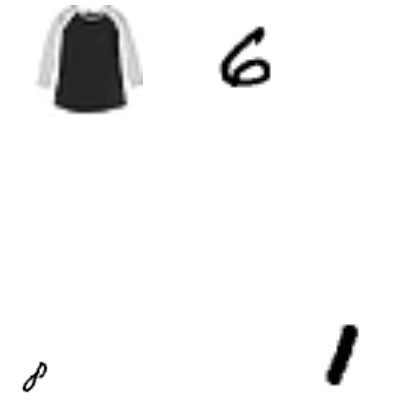1: (208, 46, 292, 130), (345, 309, 359, 323)
4: (225, 147, 337, 259)
7: (225, 217, 239, 231)
Shirt: (105, 295, 217, 407)
